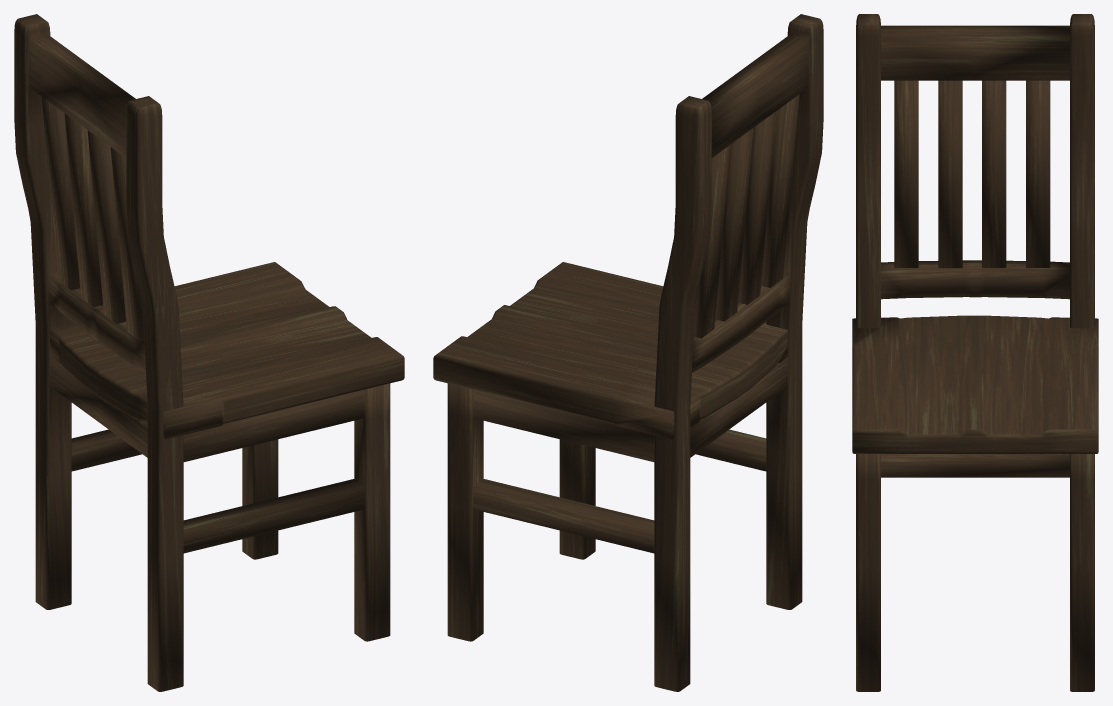
Rendered from Chair1.fbx.
3 renders of one model, left to right at view 1: azimuth 30°, elevation 25°; view 2: azimuth 150°, elevation 25°; view 3: azimuth 270°, elevation 25°, orthographic. The views are drawn at different scales.
Visible parts, largest first — view 1: Chair2.001; view 2: Chair2.001; view 3: Chair2.001.
Boxes of the visible parts, <box> form: Chair2.001: <box>14,14,404,691</box>; Chair2.001: <box>433,14,823,691</box>; Chair2.001: <box>852,14,1098,691</box>.
Bounding box in the file's own units: 101 × 214 × 85.13.
